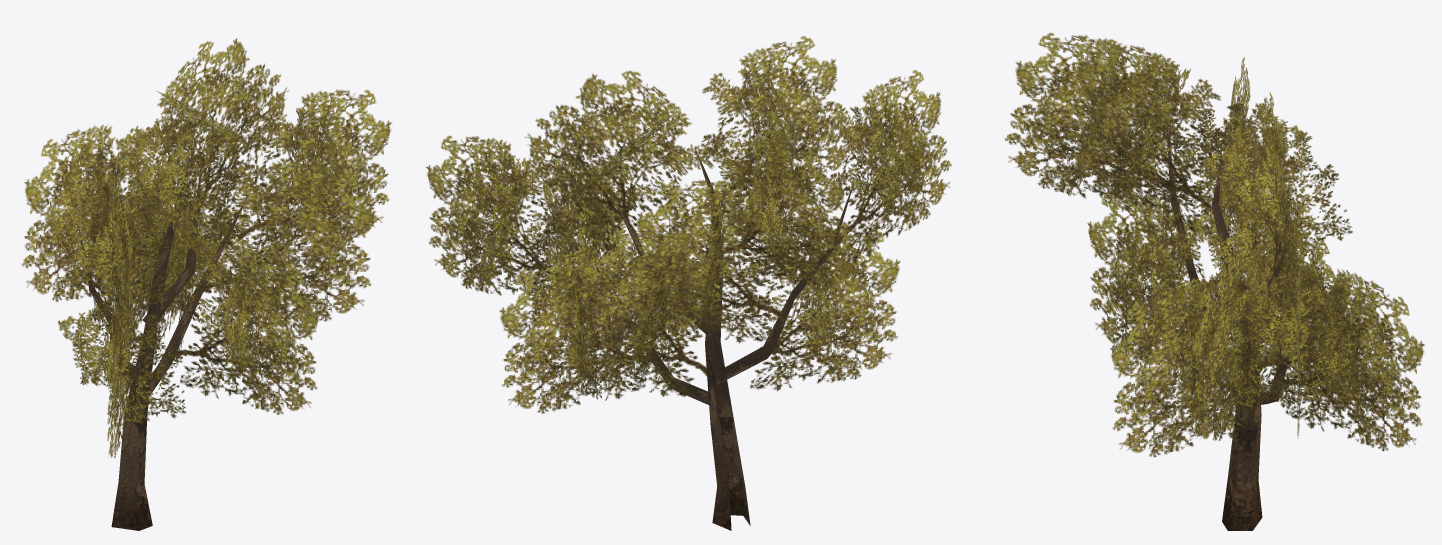
Rendered from stage-maya-p4-80.glb.
3 views of the same model, side by side, from view 1: azimuth 30°, elevation 25°; view 2: azimuth 150°, elevation 25°; view 3: azimuth 270°, elevation 25° (orthographic). The views are drawn at different scales.
Bounding box in the file's own units: 24.82 × 25.69 × 20.23.
Materials: 3 (3 with a texture image).
